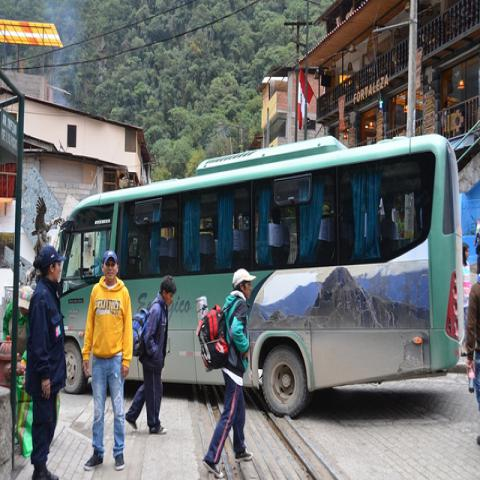bus: (58, 130, 459, 416)
